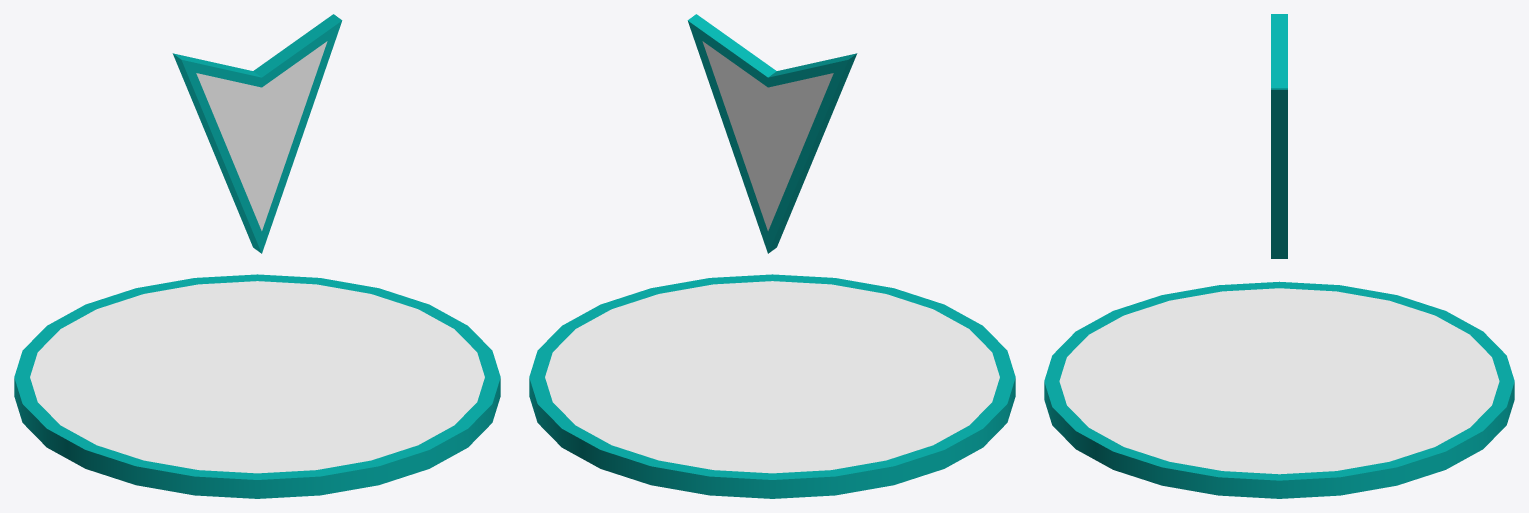
File: cursor_pointer_G.glb
3 views of the same model, side by side, from view 1: azimuth 30°, elevation 25°; view 2: azimuth 150°, elevation 25°; view 3: azimuth 270°, elevation 25° (orthographic). The views are drawn at different scales.
Visible parts, largest first — view 1: cilindo.001, cursor; view 2: cilindo.001, cursor; view 3: cilindo.001, cursor.
Boxes of the visible parts, bbox=[...] form: cilindo.001: bbox=[14, 274, 500, 498]; cursor: bbox=[172, 14, 342, 253]; cilindo.001: bbox=[529, 274, 1015, 498]; cursor: bbox=[687, 14, 857, 253]; cilindo.001: bbox=[1044, 281, 1514, 498]; cursor: bbox=[1271, 14, 1287, 258].
Size of the model in its own units: 0.1527 by 0.1244 by 0.1527.
1 material, 1 textured.
